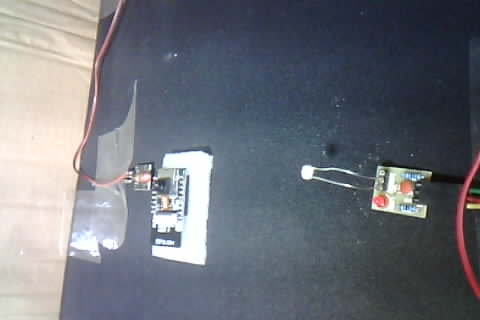esp32: (152, 153, 212, 264)
